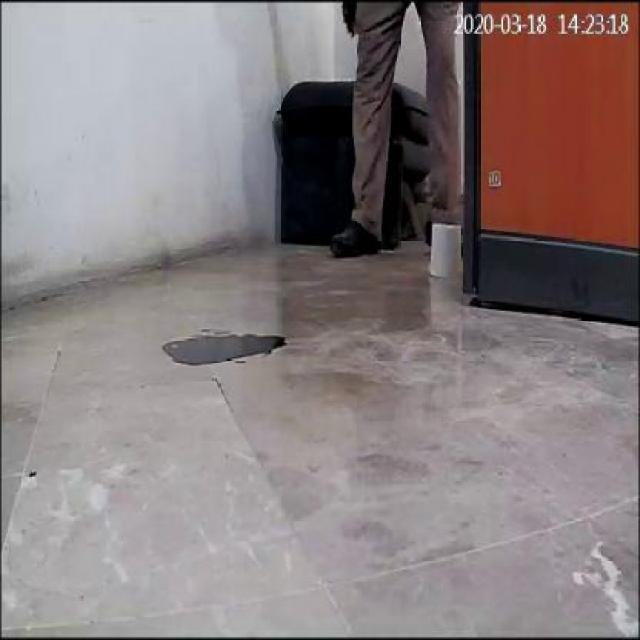spill: (153, 328, 284, 363)
